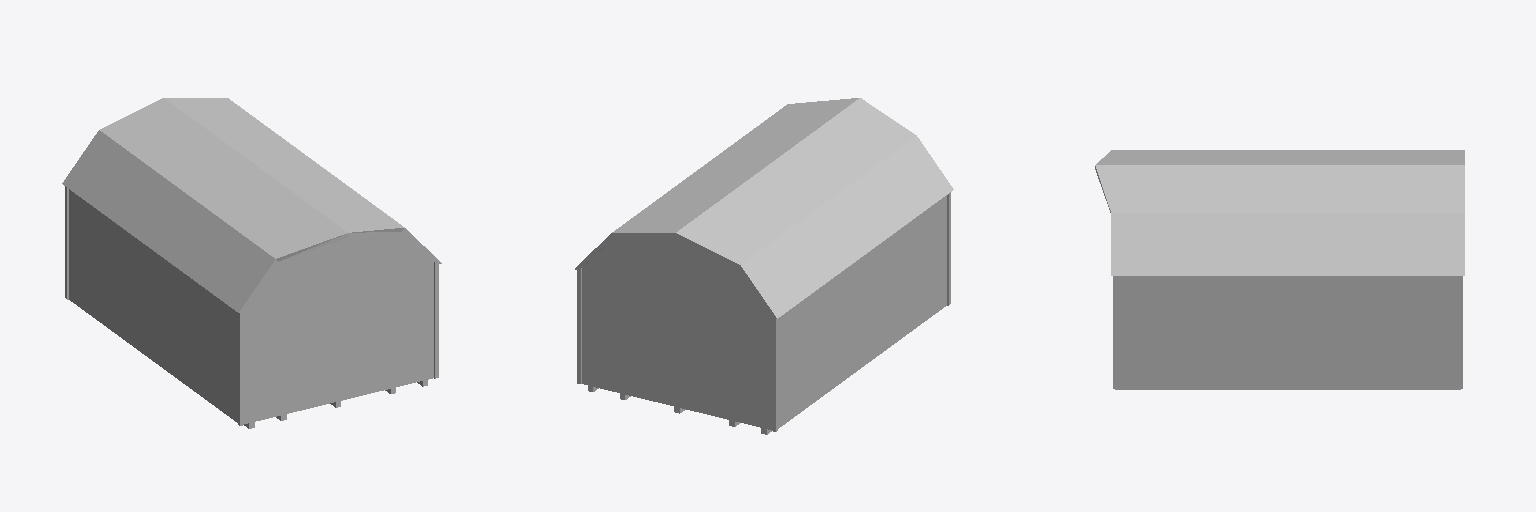
Rendered from High Wall Barns_12x20.obj.
3 renders of one model, left to right at view 1: azimuth 30°, elevation 25°; view 2: azimuth 150°, elevation 25°; view 3: azimuth 270°, elevation 25°, orthographic.
Visible parts, largest first — view 1: High Wall Barns_12x20.obj; view 2: High Wall Barns_12x20.obj; view 3: High Wall Barns_12x20.obj.
Part boxes in pixels (x1,y1,x2,y2): High Wall Barns_12x20.obj: (62, 98, 441, 428); High Wall Barns_12x20.obj: (575, 98, 953, 434); High Wall Barns_12x20.obj: (1095, 150, 1464, 389).
Size of the model in its own units: 3.72 by 3.17 by 5.84.